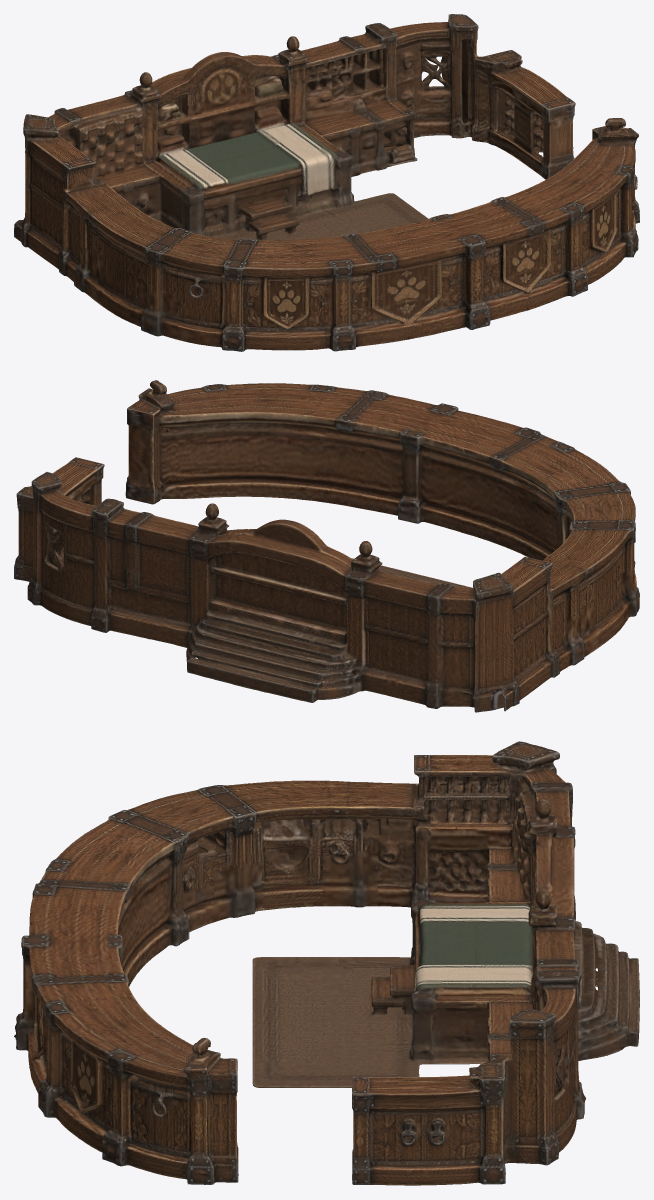
Rendered from Meshy_AI_Fantasy_Pet_Shop_Coun_1007132755_texture.fbx.
The picture shows the model from 3 angles, top to bottom: view 1: azimuth 30°, elevation 25°; view 2: azimuth 150°, elevation 25°; view 3: azimuth 270°, elevation 25°; orthographic projection. The views are drawn at different scales.
Parts seen in each view (by area): view 1: Mesh_0; view 2: Mesh_0; view 3: Mesh_0.
Boxes of the visible parts, left/top/right/bottom form: Mesh_0: left=14, top=14, right=639, bottom=351; Mesh_0: left=14, top=380, right=639, bottom=712; Mesh_0: left=14, top=741, right=639, bottom=1185.
Bounding box in the file's own units: 190 × 49.03 × 166.
Materials: 1 (1 with a texture image).
